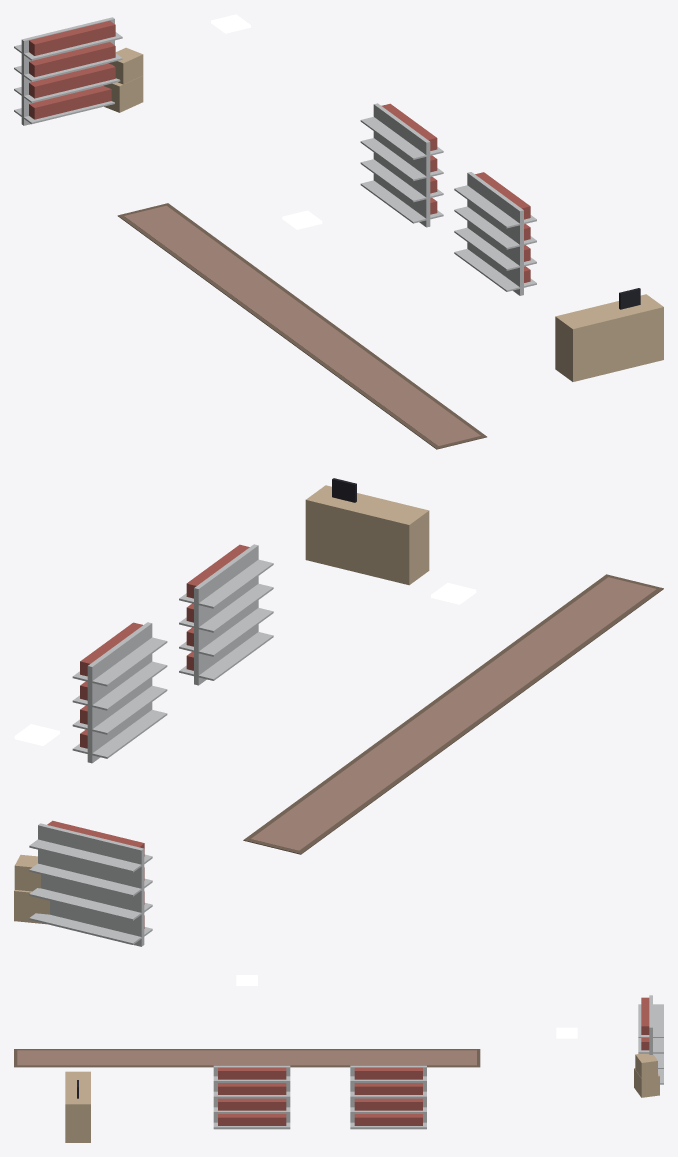
The model's file is fine-s0.glb.
3 views of the same model, one above another, from view 1: azimuth 30°, elevation 25°; view 2: azimuth 150°, elevation 25°; view 3: azimuth 270°, elevation 25° (orthographic). The views are drawn at different scales.
Parts seen in each view (by area): view 1: soft-s0, shelving.000, shop-counter.000, shelf.000, shelf.001, cardboard-box.000; view 2: soft-s0, shelving.000, shop-counter.000, shelf.000, shelf.001, cardboard-box.000; view 3: soft-s0, shelf.001, shelf.000, shop-counter.000, shelving.000, cardboard-box.000.
Part boxes in pixels (x1,y1,x2,y2): soft-s0: [117, 203, 486, 449]; shelving.000: [14, 17, 122, 125]; shop-counter.000: [555, 288, 663, 381]; shelf.000: [360, 103, 443, 227]; shelf.001: [454, 172, 536, 295]; cardboard-box.000: [103, 47, 143, 112]; soft-s0: [243, 574, 663, 854]; shelving.000: [29, 820, 152, 946]; shop-counter.000: [305, 478, 429, 585]; shelf.000: [72, 622, 167, 763]; shelf.001: [179, 544, 273, 685]; cardboard-box.000: [14, 854, 49, 924]; soft-s0: [14, 1049, 480, 1067]; shelf.001: [213, 1065, 290, 1129]; shelf.000: [350, 1065, 426, 1129]; shop-counter.000: [65, 1071, 90, 1142]; shelving.000: [638, 995, 663, 1084]; cardboard-box.000: [634, 1053, 659, 1097].
Size of the model in its own units: 5.18 by 2.03 by 15.22.
